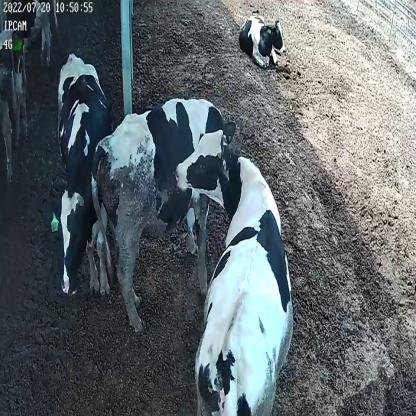cow: (174, 120, 297, 415), (92, 95, 230, 329), (47, 48, 116, 301), (236, 11, 286, 72)
